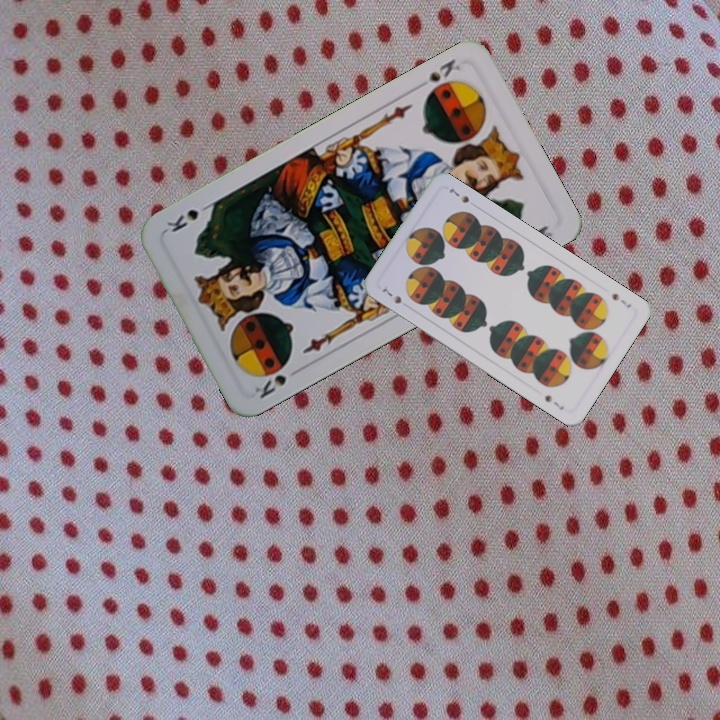S7: (378, 284, 404, 306), (608, 289, 634, 310)
SK: (250, 357, 294, 402), (413, 55, 463, 93)
